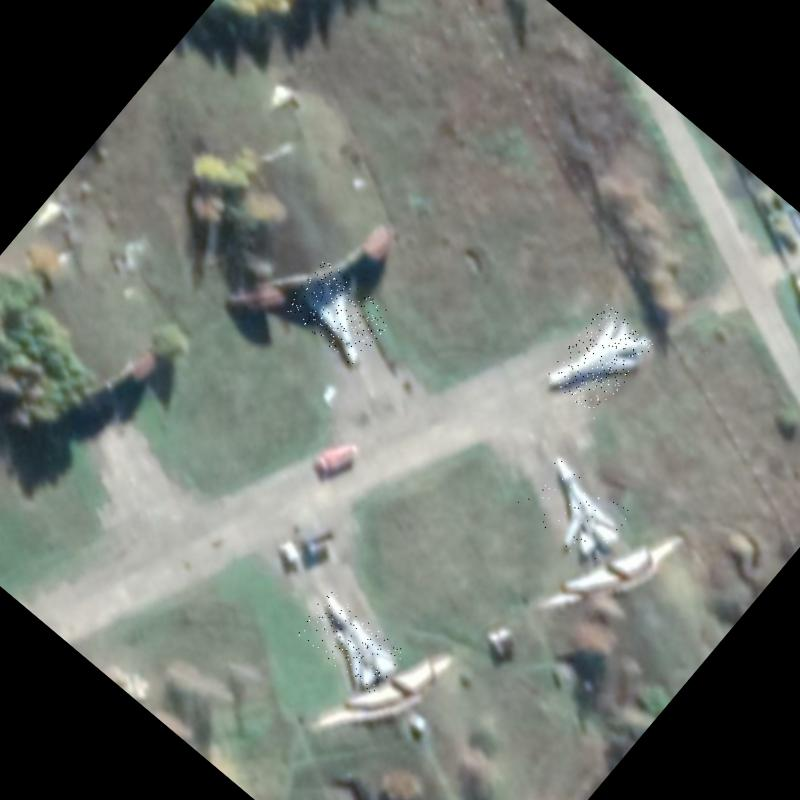A20: (514, 452, 636, 570), (542, 302, 656, 419), (282, 258, 395, 368), (294, 588, 406, 696)
